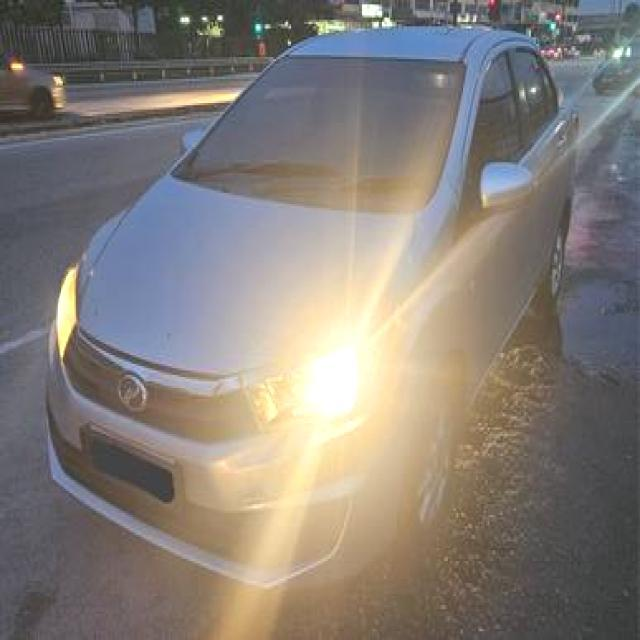PeroduaBezza: (43, 22, 580, 588)
